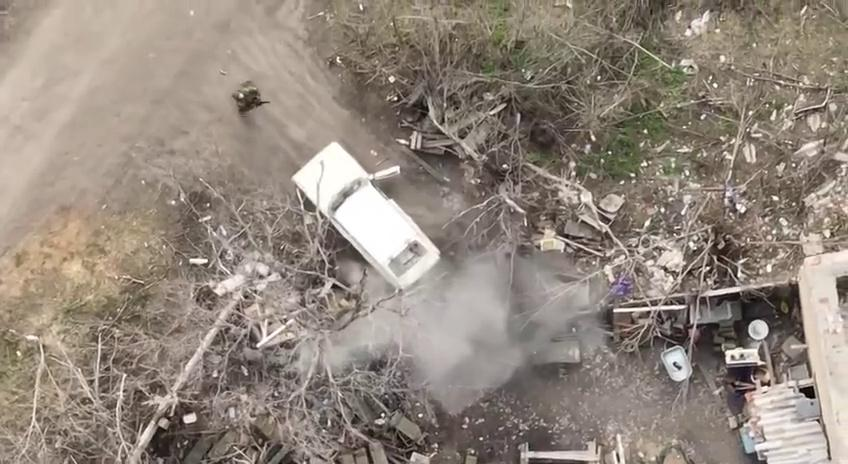person: (233, 80, 261, 115)
vehicle: (291, 142, 439, 288)
